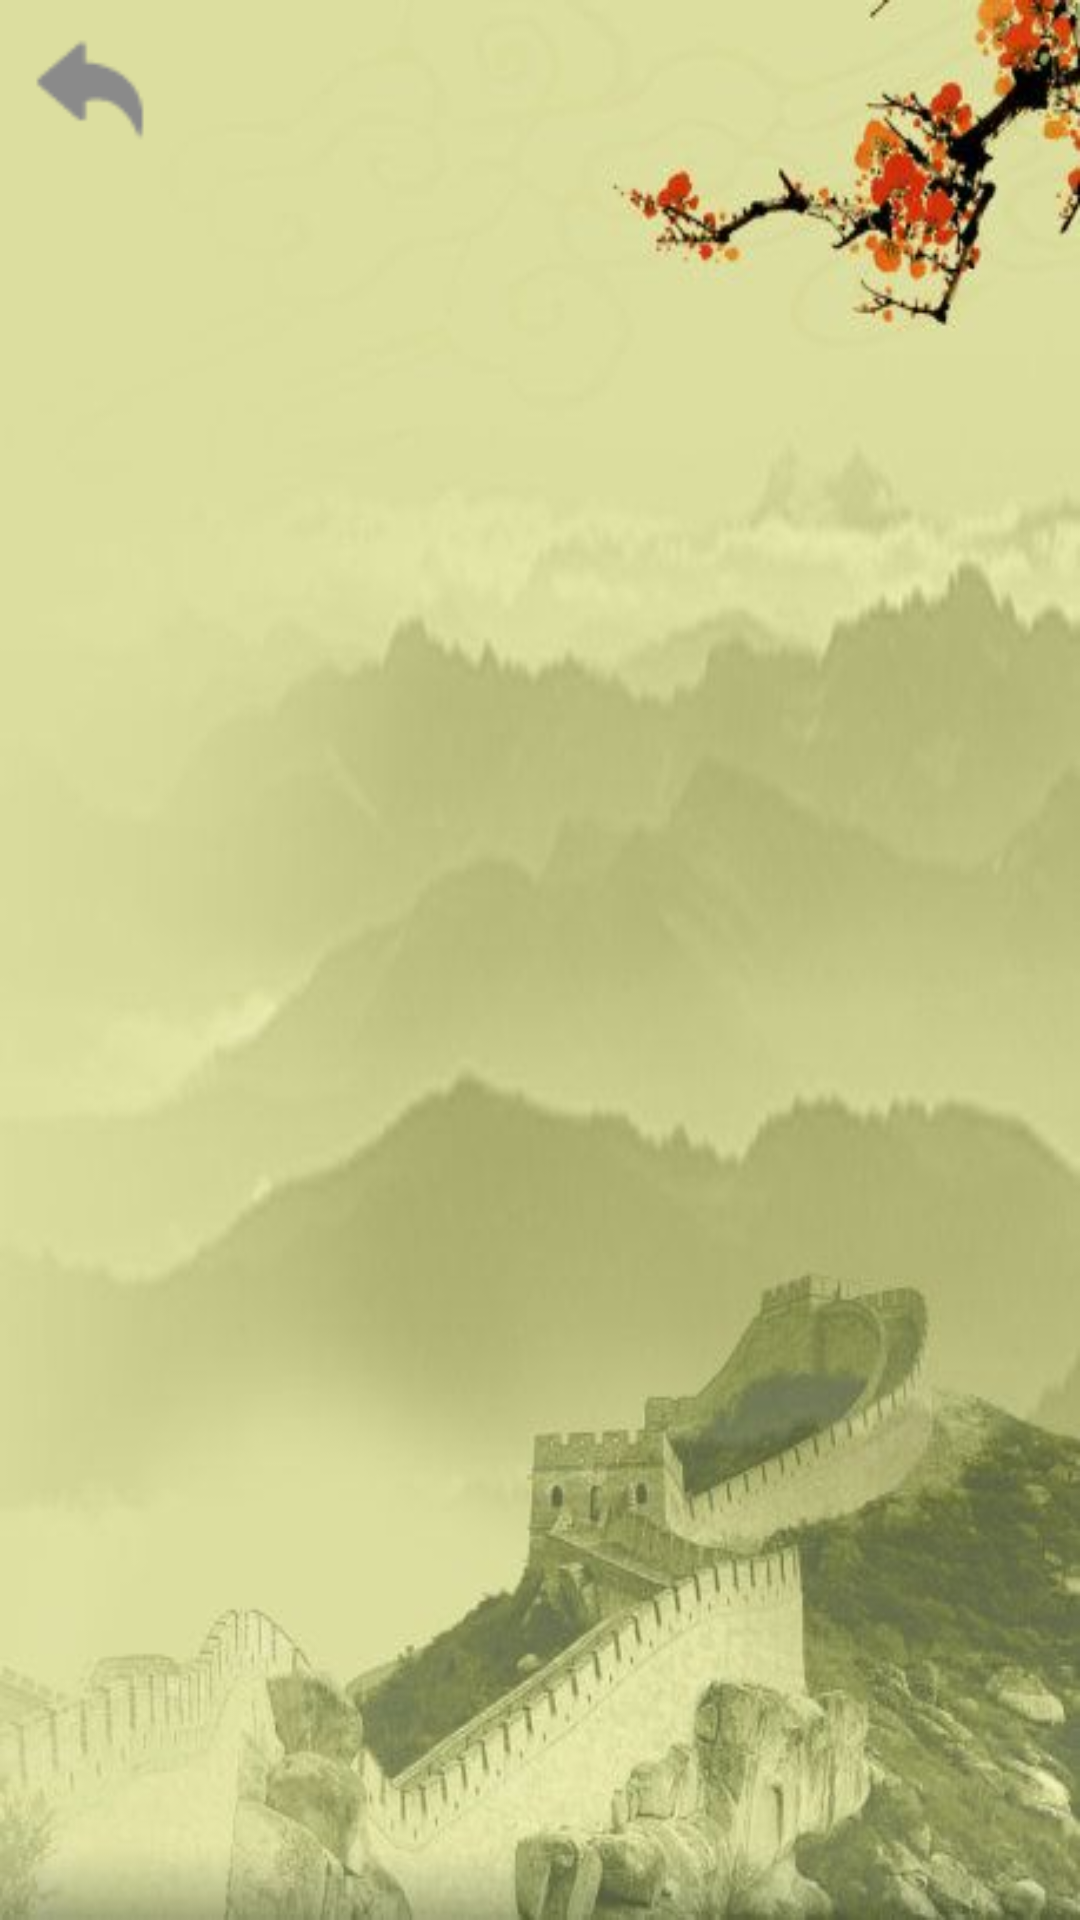

Named icons in this screenshot (1080*1920) and their centers, point (x, y):
back: point (90, 89)
